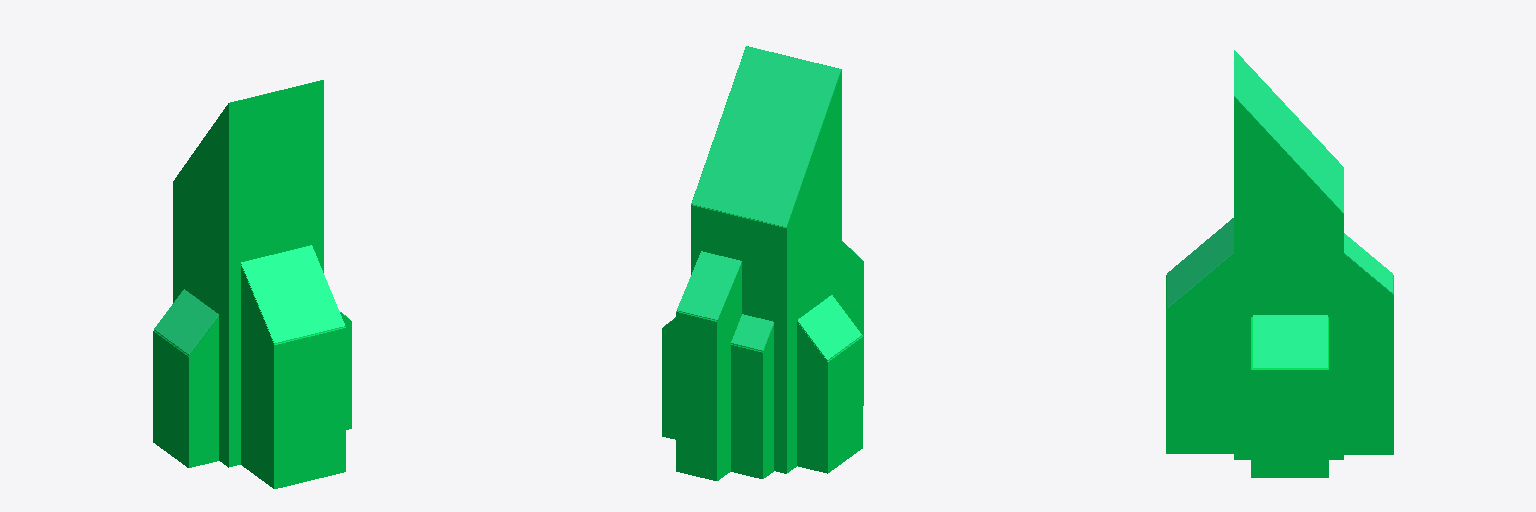
The model's file is LargeCrystal.obj.
3 views of the same model, side by side, from view 1: azimuth 30°, elevation 25°; view 2: azimuth 150°, elevation 25°; view 3: azimuth 270°, elevation 25° (orthographic).
Parts seen in each view (by area): view 1: Invisipart11, Invisipart4, Invisipart2, Invisipart5, Invisipart8, Invisipart1; view 2: Invisipart11, Invisipart12, Invisipart10, Invisipart2, Invisipart3, Invisipart9, Invisipart8, Invisipart4, Invisipart1, Invisipart7; view 3: Invisipart11, Invisipart4, Invisipart10, Invisipart1, Invisipart12, Invisipart6, Invisipart5, Invisipart9.
Part boxes in pixels (left/top/right/bottom): Invisipart11: left=173, top=80, right=323, bottom=467; Invisipart4: left=241, top=265, right=345, bottom=488; Invisipart2: left=153, top=316, right=218, bottom=467; Invisipart5: left=241, top=245, right=345, bottom=343; Invisipart8: left=154, top=289, right=218, bottom=355; Invisipart1: left=340, top=313, right=351, bottom=429; Invisipart11: left=691, top=46, right=841, bottom=473; Invisipart12: left=692, top=46, right=840, bottom=226; Invisipart10: left=676, top=263, right=741, bottom=480; Invisipart2: left=797, top=322, right=862, bottom=473; Invisipart3: left=731, top=325, right=773, bottom=478; Invisipart9: left=677, top=251, right=741, bottom=320; Invisipart8: left=797, top=295, right=861, bottom=360; Invisipart4: left=842, top=242, right=863, bottom=405; Invisipart1: left=662, top=319, right=675, bottom=439; Invisipart7: left=731, top=314, right=773, bottom=351; Invisipart11: left=1234, top=97, right=1343, bottom=459; Invisipart4: left=1166, top=253, right=1233, bottom=453; Invisipart10: left=1344, top=254, right=1393, bottom=454; Invisipart1: left=1251, top=317, right=1328, bottom=477; Invisipart12: left=1234, top=50, right=1343, bottom=213; Invisipart6: left=1253, top=315, right=1327, bottom=367; Invisipart5: left=1167, top=218, right=1233, bottom=308; Invisipart9: left=1344, top=233, right=1392, bottom=293.
Bounding box in the file's own units: 6.67 × 14.27 × 8.11.